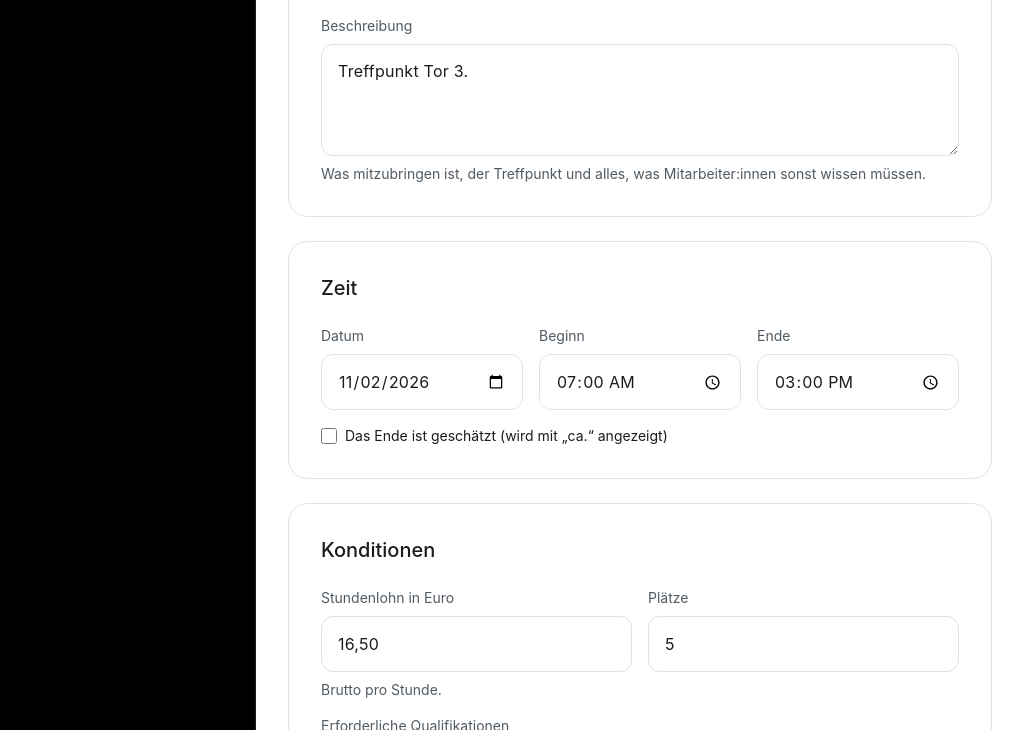
it: editing a shift › explains a new time that would double-book someone
(page scrolled)
Replace the text in the time field labelled "Beginn" with "05:00": (640, 382) [539,354,741,410]
(page scrolled)
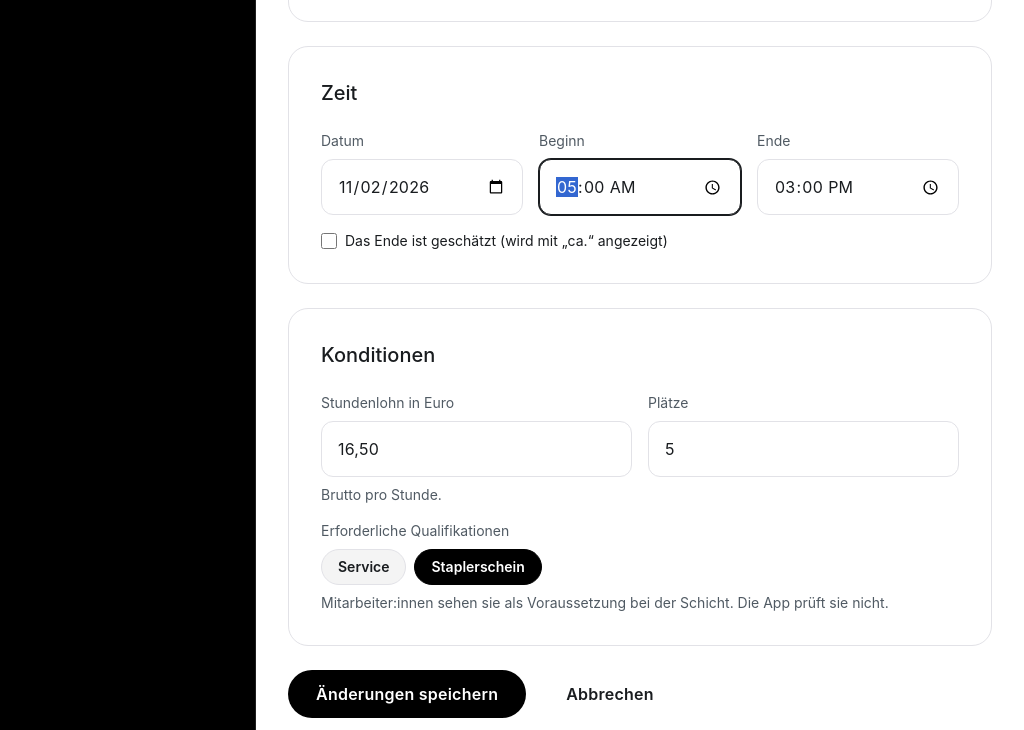
Click the button "Änderungen speichern": (407, 694) [288,670,526,718]
(page scrolled)
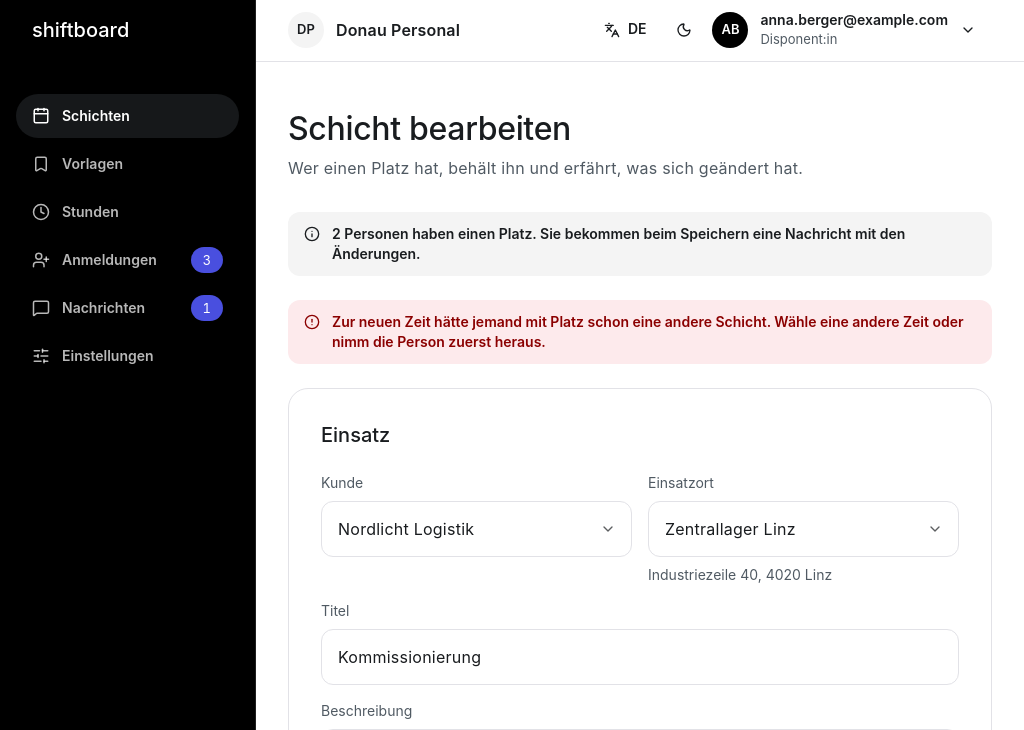
Expected: the heading "Schicht bearbeiten" is shown, [288,109,571,148]
Expected: the text "hätte jemand mit Platz schon eine andere Schicht" is shown, [332,313,964,350]
